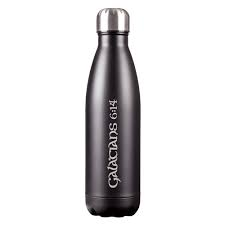bottle: (84, 7, 142, 218)
